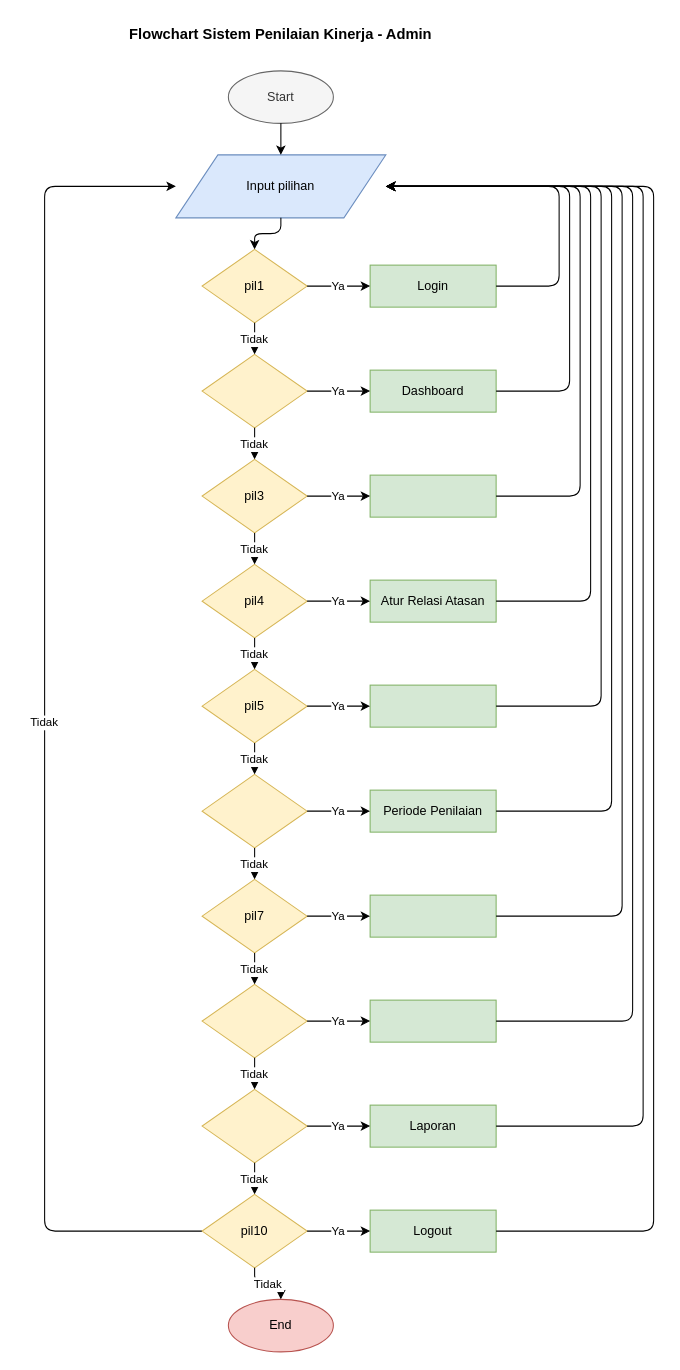
Some shapes in this 680 by 1370 pixel diagram are drawn without their labels. Here are the shapes that lost their labels. From the top down, the centre of each, then its label:
At point 254,390: "pil2".
At point 432,495: "Data Karyawan".
At point 432,705: "Kriteria Penilaian".
At point 254,810: "pil6".
At point 432,915: "Rekap Penilaian".
At point 254,1020: "pil8".
At point 432,1020: "Analisa Kinerja".
At point 254,1125: "pil9".
